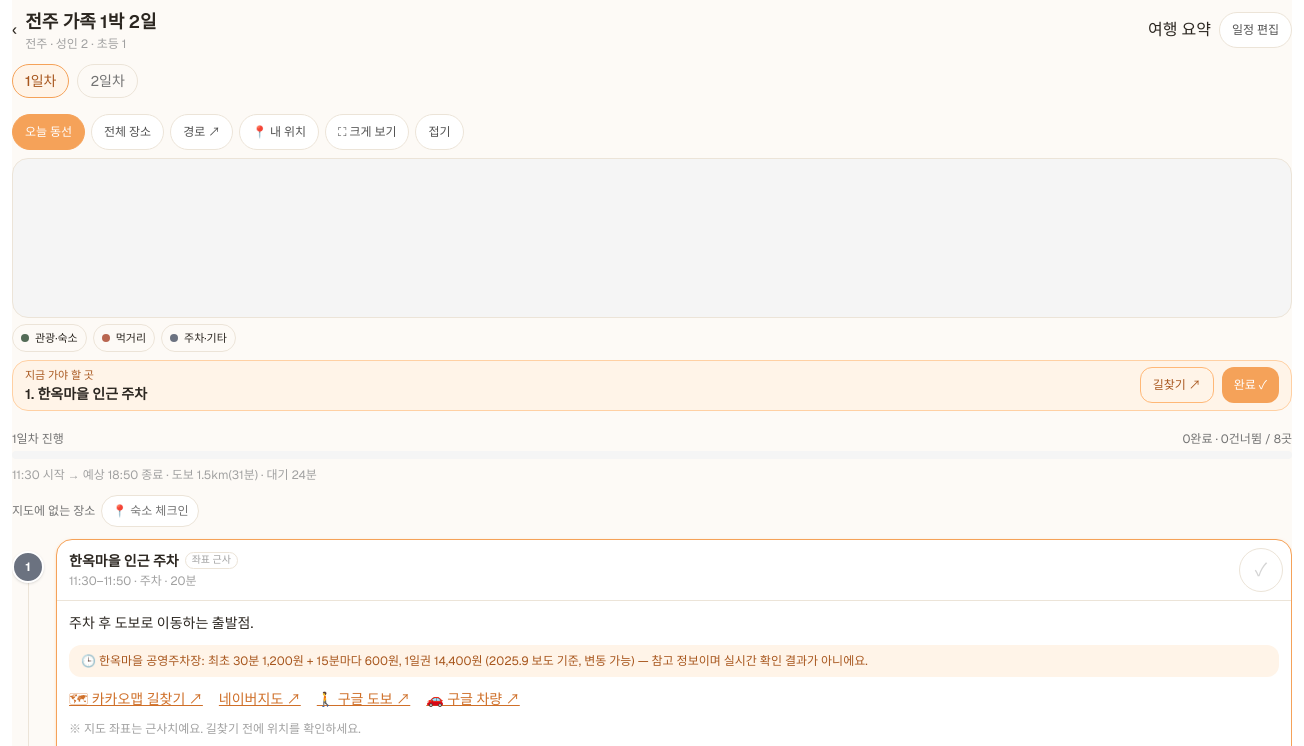
지도 위치 지정 › 지도를 눌러 정한 위치를 저장하면 핀이 바로 생기고 서버에도 저장된다
This screenshot has width=1304, height=746.
What coordinates should you click on to do the following:
click the button with aria-label "숙소 체크인 위치 지정"
I would click on:
 (150, 510)
Its box is top-left (101, 494), bottom-right (200, 526).
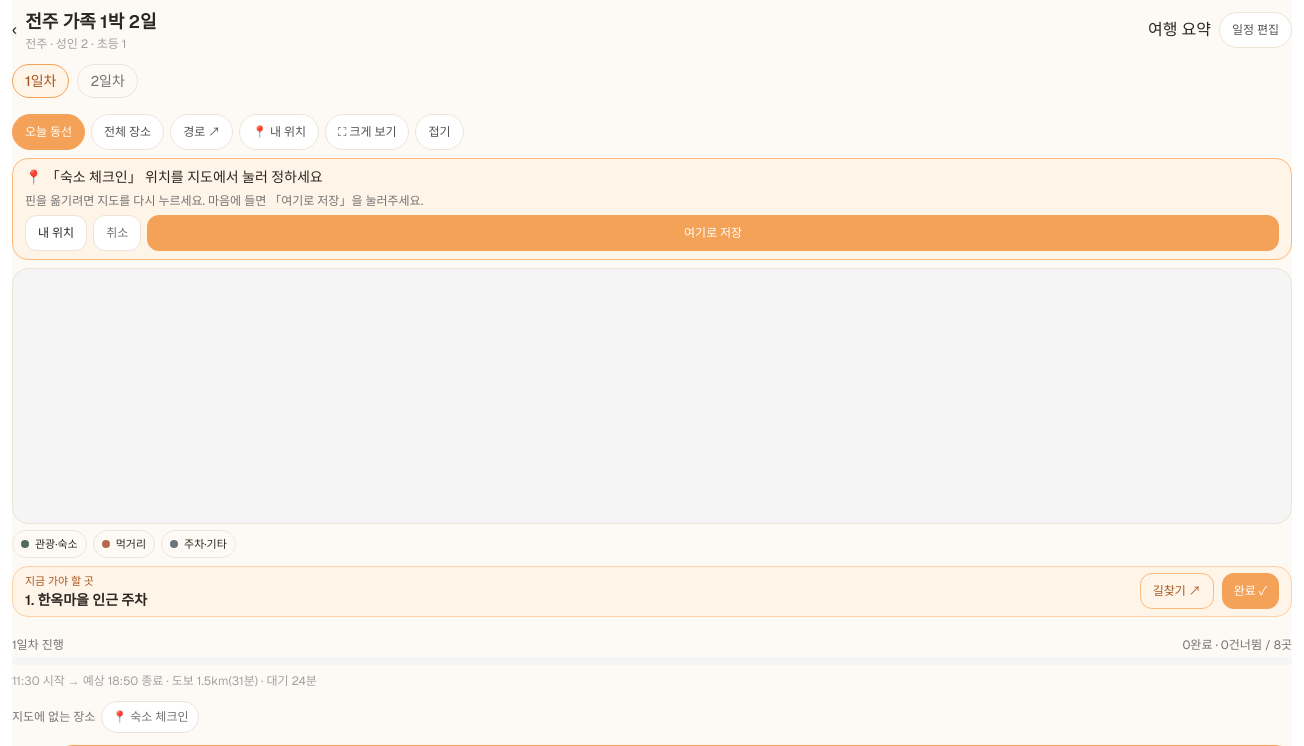
What coordinates should you click on to do the following:
click the button "여기로 저장"
I would click on:
 (713, 233)
Its box is top-left (147, 215), bottom-right (1279, 251).
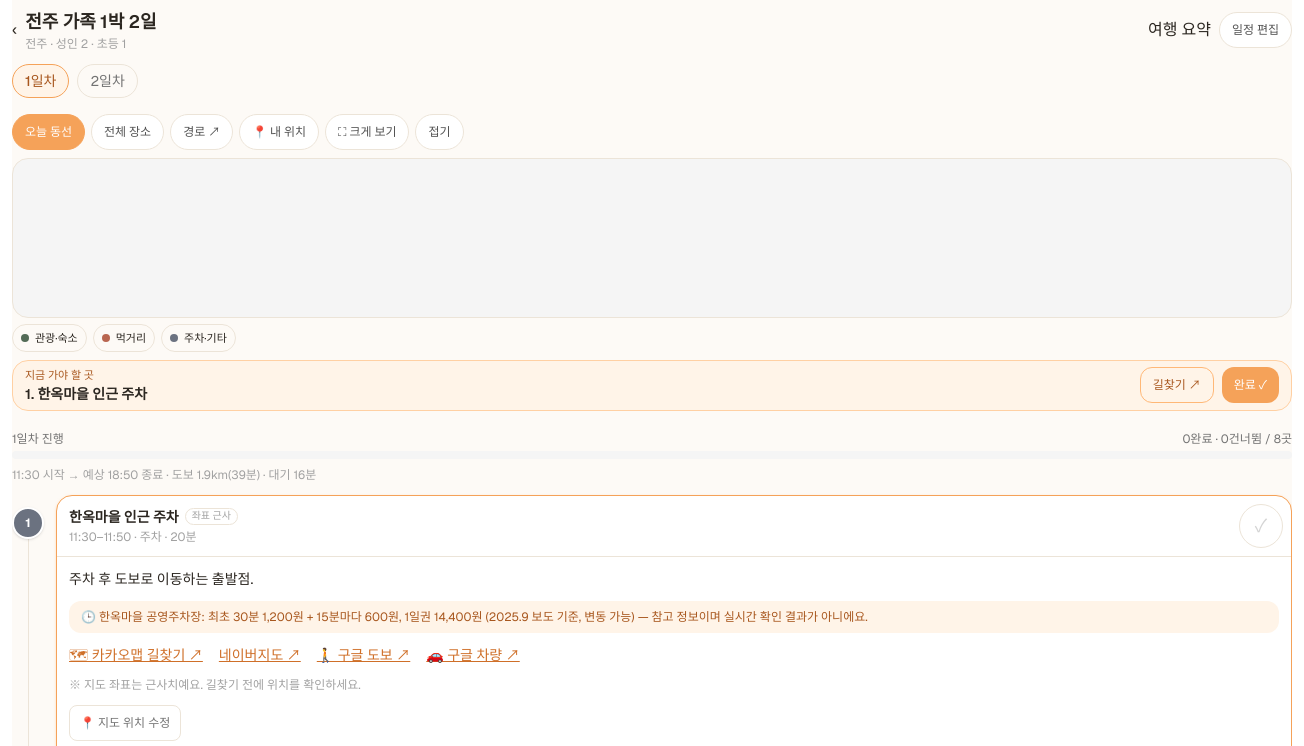
expect the text "지도에 없는 장소" is gone: met
